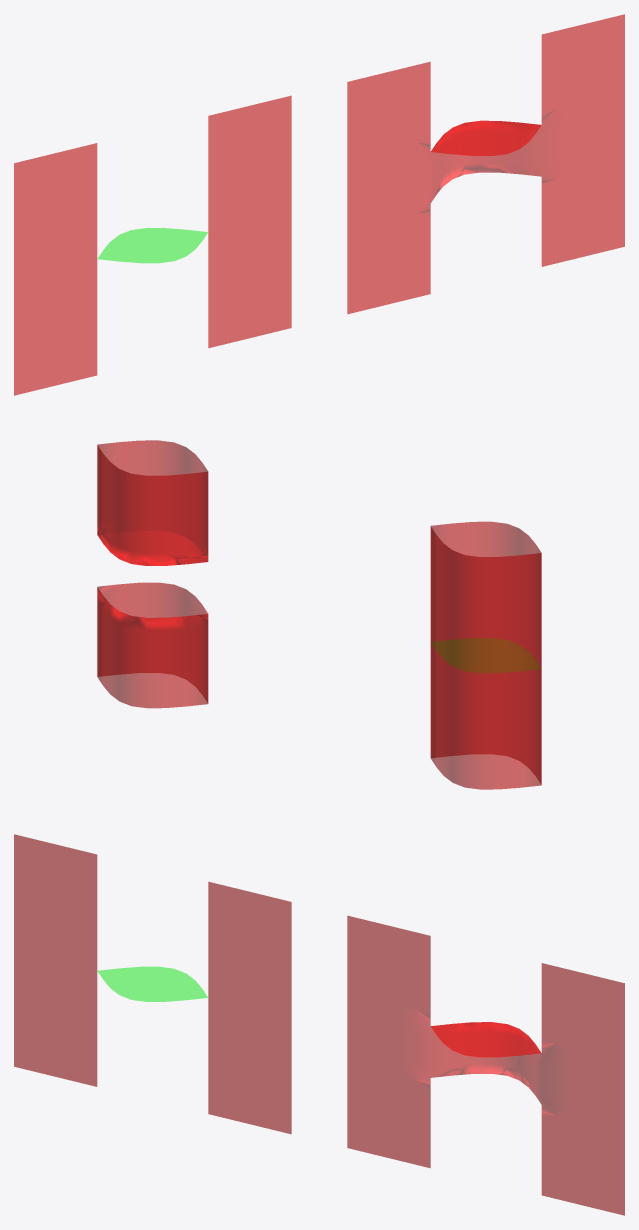
The model's file is 2compression.glb.
The picture shows the model from 3 angles, top to bottom: view 1: azimuth 30°, elevation 25°; view 2: azimuth 150°, elevation 25°; view 3: azimuth 330°, elevation 25°; orthographic projection.
Visible parts, largest first — view 1: Plane.001, Plane, comp_disk; view 2: Plane, Plane.001, comp_disk; view 3: Plane.001, Plane, comp_disk.
Part boxes in pixels (x1,y1,x2,y2): Plane.001: [347, 14, 624, 313]; Plane: [14, 96, 291, 395]; comp_disk: [98, 228, 207, 263]; Plane: [430, 521, 541, 789]; Plane.001: [97, 440, 208, 708]; comp_disk: [431, 638, 540, 672]; Plane.001: [347, 916, 624, 1215]; Plane: [14, 834, 291, 1133]; comp_disk: [98, 966, 207, 1001].
Bounding box in the file's own units: 11 × 4 × 1.33.
